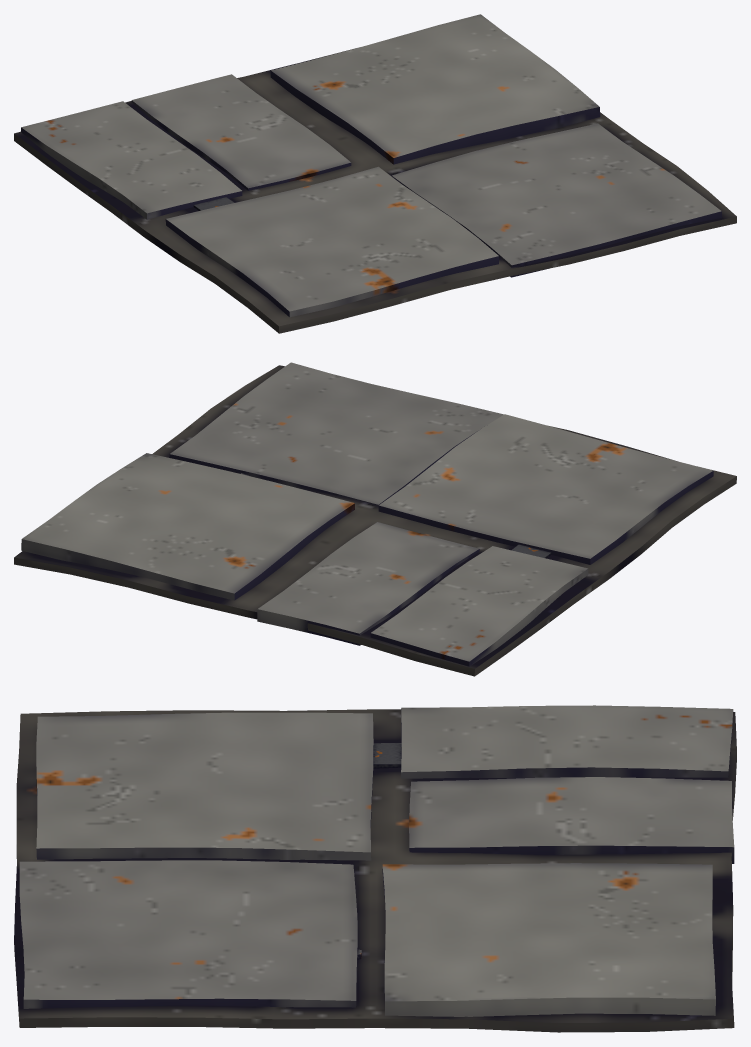
File: YardPathStub.glb
3 renders of one model, top to bottom at view 1: azimuth 30°, elevation 25°; view 2: azimuth 150°, elevation 25°; view 3: azimuth 270°, elevation 25°, orthographic. The views are drawn at different scales.
Parts seen in each view (by area): view 1: Pavers, Gravel; view 2: Pavers, Gravel; view 3: Pavers, Gravel, Grit.
Boxes of the visible parts, x1,y1,x2,y2 form: Pavers: (21, 14, 721, 317); Gravel: (14, 48, 736, 333); Pavers: (21, 362, 713, 666); Gravel: (14, 365, 736, 676); Pavers: (19, 705, 734, 1016); Gravel: (14, 709, 736, 1032); Grit: (357, 743, 401, 959).
Size of the model in its own units: 4.07 by 0.2002 by 4.02.
Materials: 3 (3 with a texture image).
